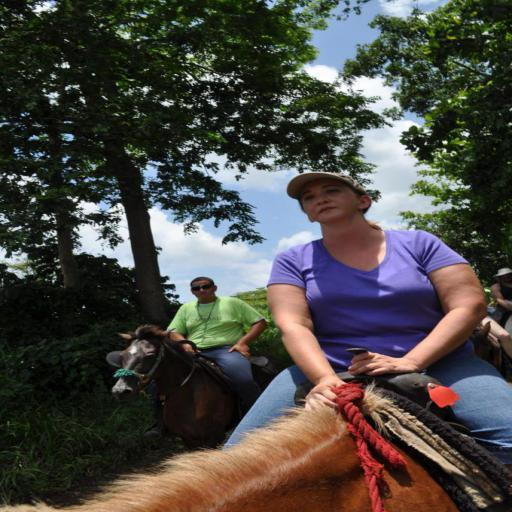horse: (0, 392, 465, 512), (107, 324, 261, 452), (472, 316, 512, 381)
